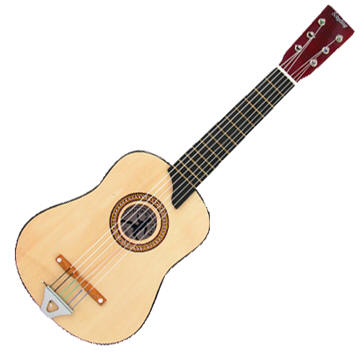guitar: (15, 5, 356, 346)
